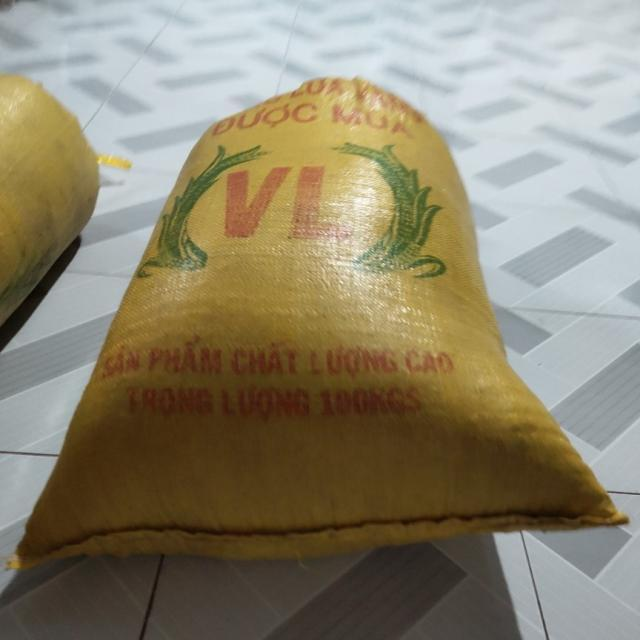gunny_bag: (10, 77, 625, 570)
